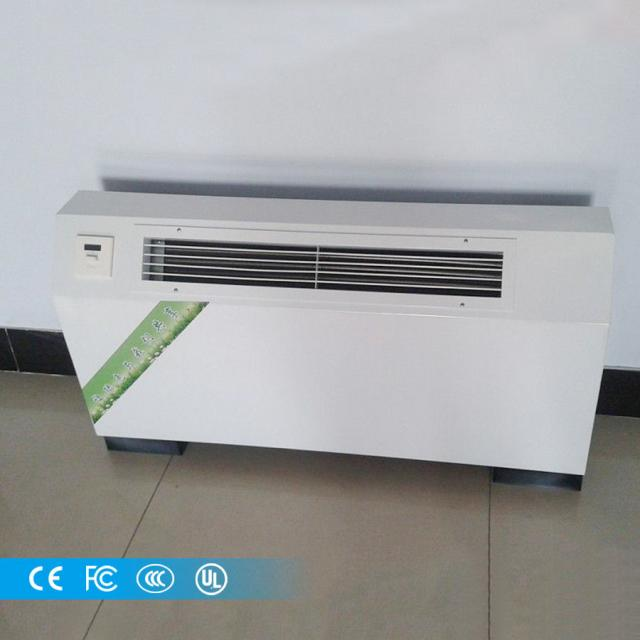appliances: (53, 192, 612, 474)
